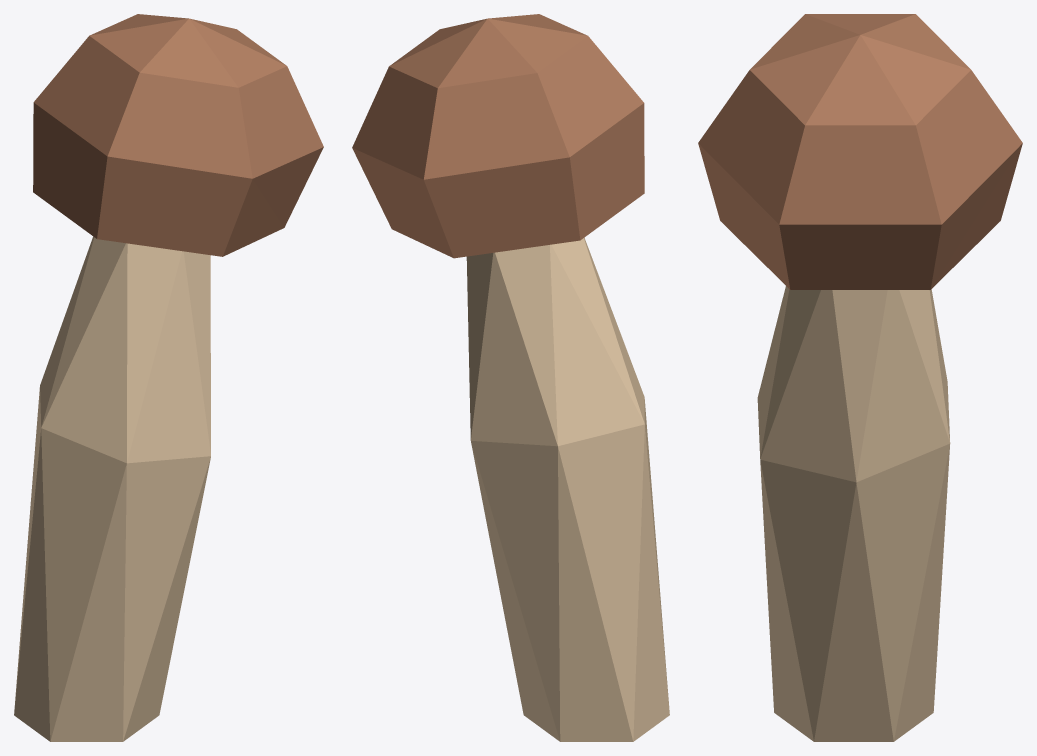
Rendered from Mushroom 7_2.fbx.
3 views of the same model, side by side, from view 1: azimuth 30°, elevation 25°; view 2: azimuth 150°, elevation 25°; view 3: azimuth 270°, elevation 25° (orthographic). The views are drawn at different scales.
Visible parts, largest first — view 1: Mushroom 7_2; view 2: Mushroom 7_2; view 3: Mushroom 7_2.
Part boxes in pixels (left/top/right/bottom): Mushroom 7_2: left=14, top=14, right=323, bottom=741; Mushroom 7_2: left=352, top=14, right=669, bottom=741; Mushroom 7_2: left=698, top=14, right=1022, bottom=741.
Bounding box in the file's own units: 0.0815 × 0.202 × 0.081.
